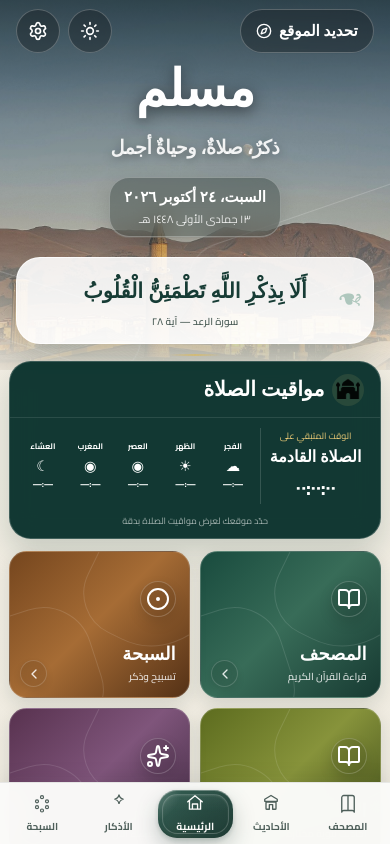
Scenario: App user journeys › navigates home → azkar → morning category → back
Check: the text "مسلم" is shown, box 136,61 -> 254,119
Step 1. Click the button "الأذكار" → click(119, 813), box 80,789 -> 157,837
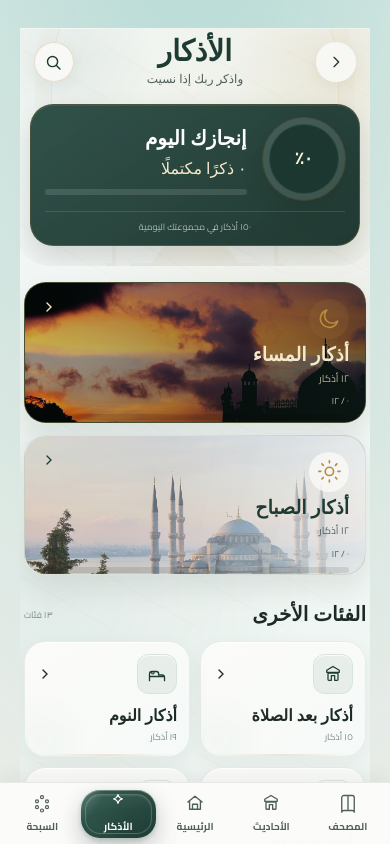
Check: the button "أذكار الصباح ١٢ أذكار ٠ / ١٢ ٠٪" is shown
Step 2. Click the button "أذكار الصباح ١٢ أذكار ٠ / ١٢ ٠٪" → click(195, 505), box 24,435 -> 366,576
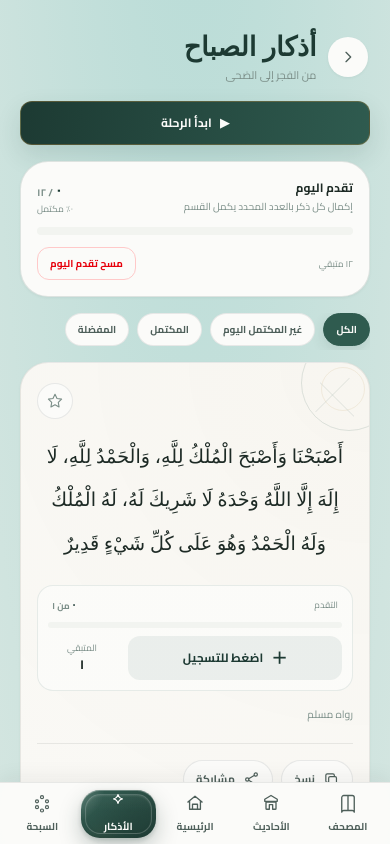
Check: the text "أَصْبَحْنَا وَأَصْبَحَ الْمُلْكُ لِلَّهِ" is shown, box 47,446 -> 343,554
Step 3. Click the button named "رجوع" → click(348, 57), box 328,37 -> 368,77
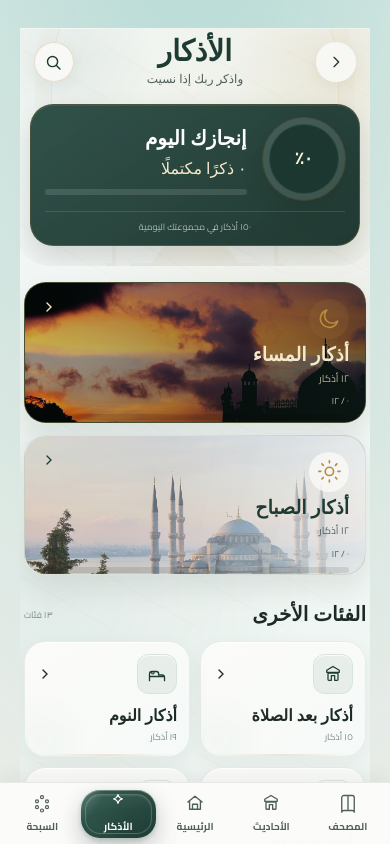
Check: the button "أذكار الصباح ١٢ أذكار ٠ / ١٢ ٠٪" is shown, box 24,435 -> 366,576
